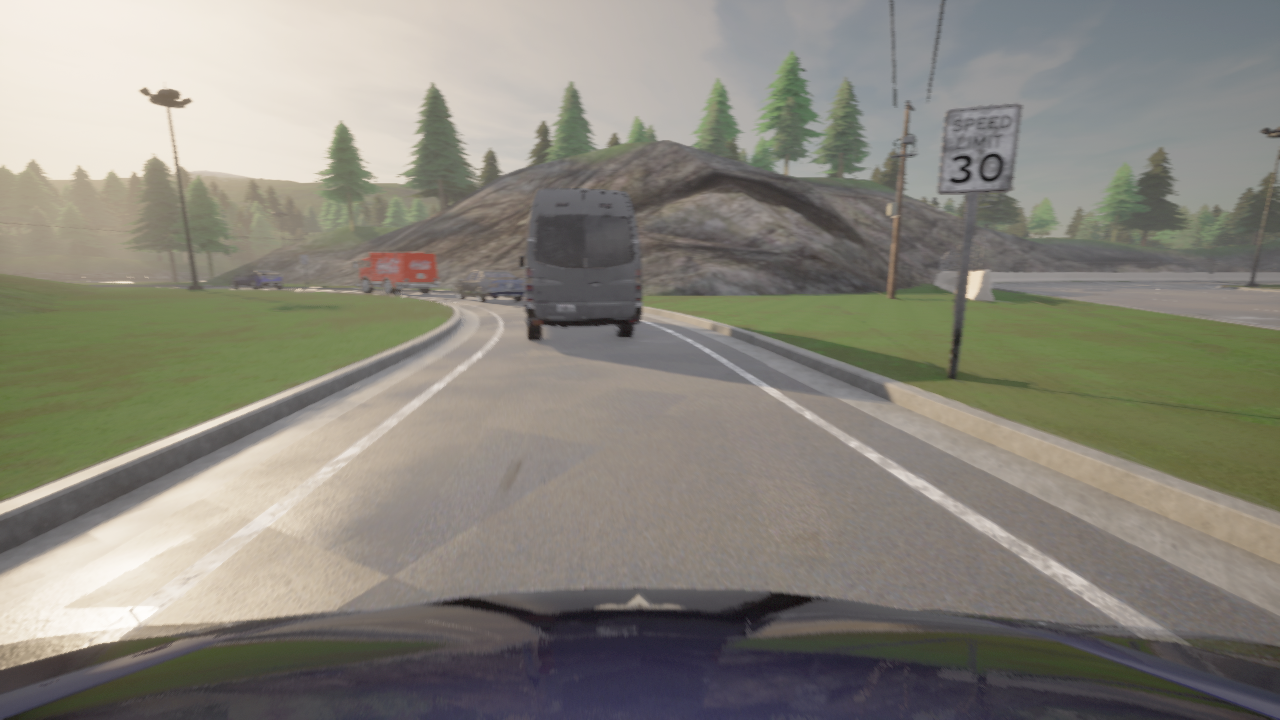cyclist: (0, 588, 1279, 719), (518, 188, 642, 340), (353, 251, 440, 294), (454, 269, 524, 302), (230, 269, 283, 289)
